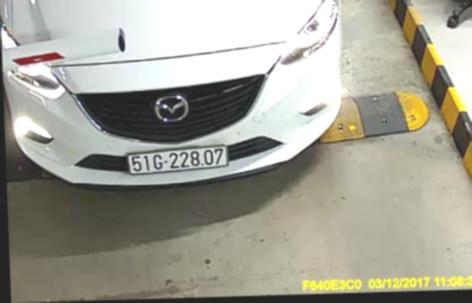License_Plate: (126, 142, 231, 176)
